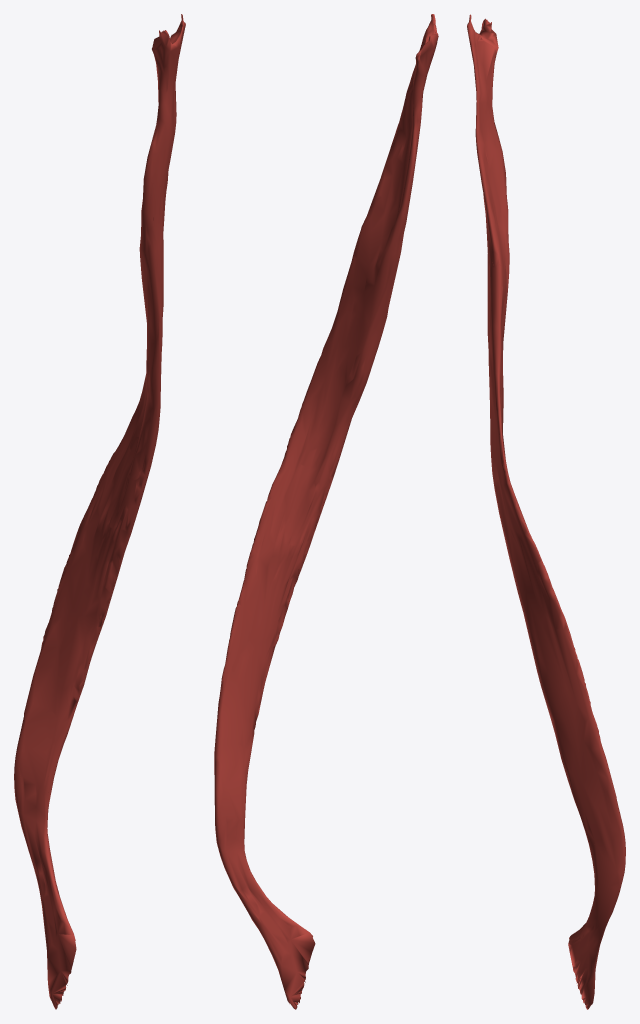
The model's file is musculos-sartorius-muscle-r.glb.
The picture shows the model from 3 angles, left to right: view 1: azimuth 90°, elevation 25°; view 2: azimuth 150°, elevation 25°; view 3: azimuth 270°, elevation 25°; orthographic projection. The views are drawn at different scales.
Parts seen in each view (by area): view 1: Sartorius muscle.r; view 2: Sartorius muscle.r; view 3: Sartorius muscle.r.
Boxes of the visible parts, <box> form: Sartorius muscle.r: <box>14,14,185,1009</box>; Sartorius muscle.r: <box>214,14,438,1009</box>; Sartorius muscle.r: <box>467,14,625,1009</box>.
Bounding box in the file's own units: 0.1032 × 0.5992 × 0.0901.
